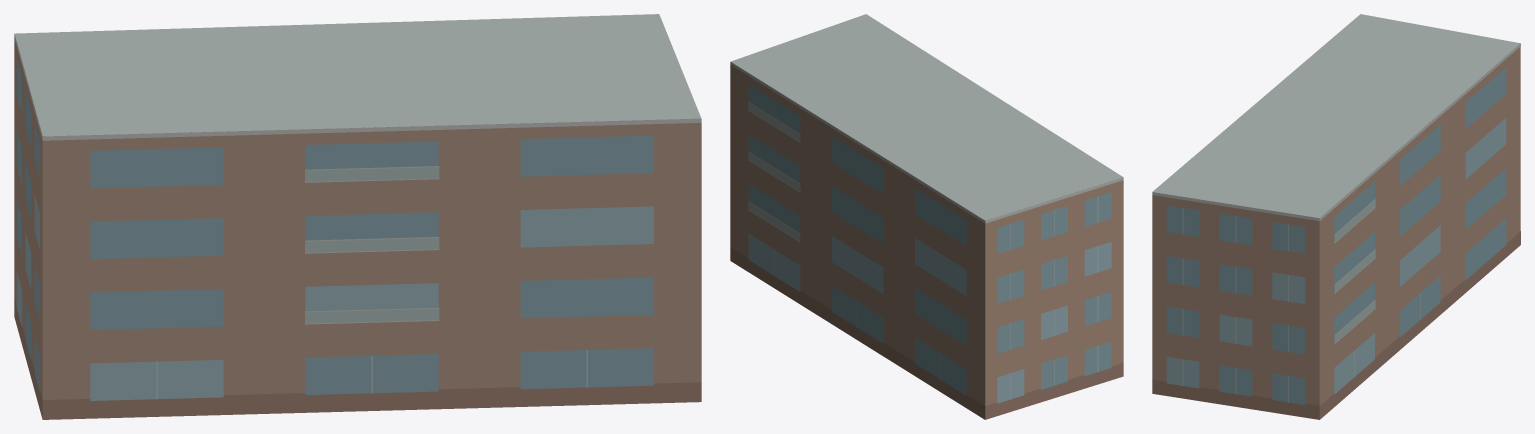
File: survey-upis-32878290.glb
3 renders of one model, left to right at view 1: azimuth 30°, elevation 25°; view 2: azimuth 150°, elevation 25°; view 3: azimuth 270°, elevation 25°, orthographic. The views are drawn at different scales.
Visible parts, largest first — view 1: survey-upis-32878290.tmp; view 2: survey-upis-32878290.tmp; view 3: survey-upis-32878290.tmp.
Part boxes in pixels (x1,y1,x2,y2): survey-upis-32878290.tmp: (14,14,701,419); survey-upis-32878290.tmp: (730,14,1123,419); survey-upis-32878290.tmp: (1152,14,1520,419).
Bounding box in the file's own units: 35.28 × 16.25 × 26.92.
